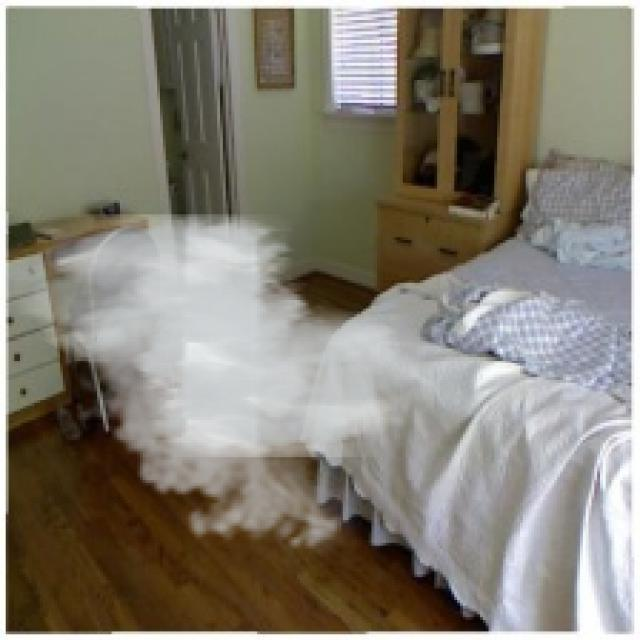Smoke: (8, 215, 434, 560)
